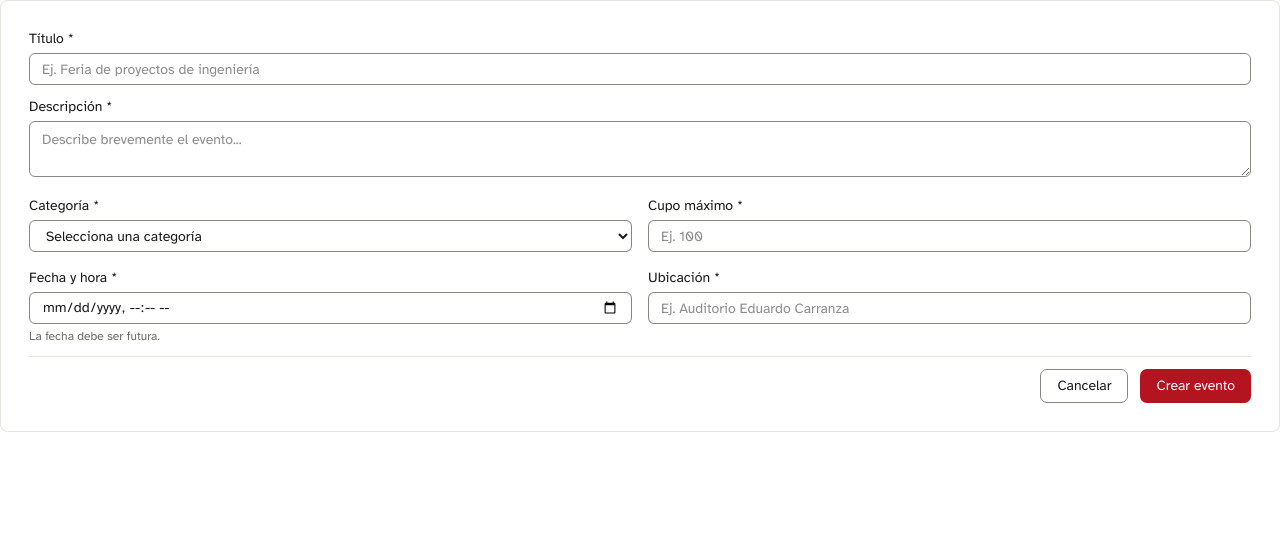
Test: FormularioEvento › crear (HU-05) › no envía nada y marca los campos obligatorios vacíos
Click the button "Crear evento": (1196, 386) [1140,369,1251,403]
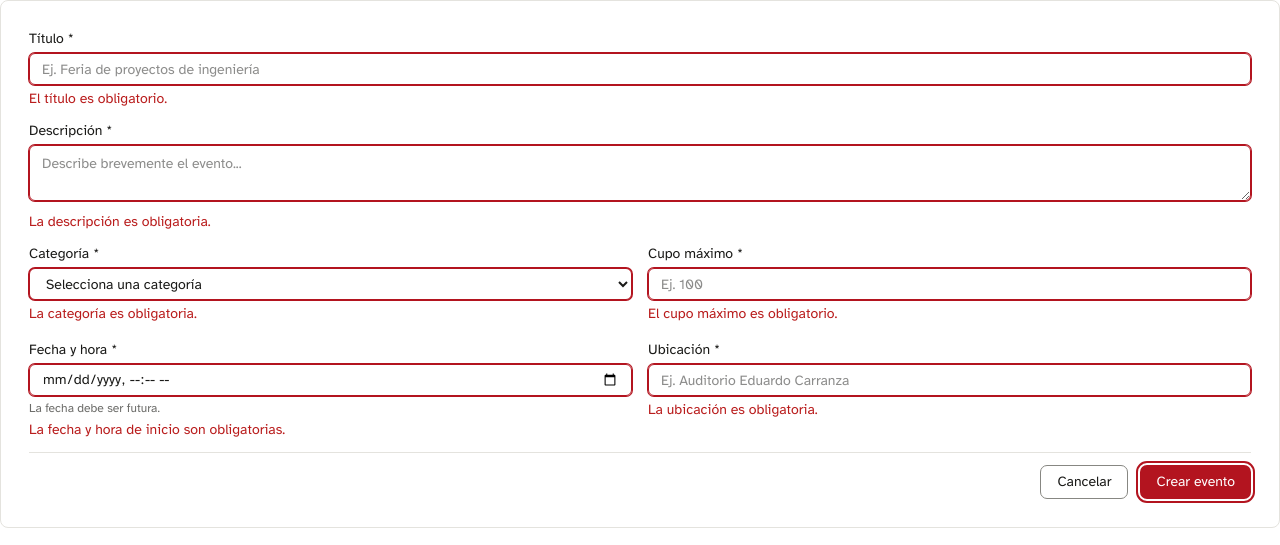
Check: the text "El título es obligatorio." is shown, box [29,90,167,107]
Check: the text "La categoría es obligatoria." is shown, box [29,305,197,322]
